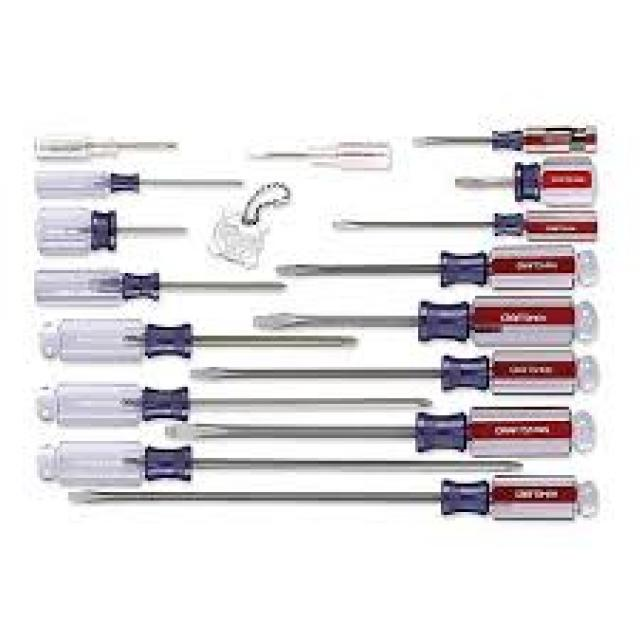Screwdriver: (28, 432, 520, 492), (57, 472, 603, 525), (160, 402, 600, 461), (180, 346, 608, 398), (27, 376, 437, 429), (238, 297, 606, 344), (28, 314, 364, 364), (278, 243, 624, 291), (26, 262, 286, 307), (326, 205, 608, 246), (406, 111, 607, 162), (28, 159, 257, 202), (447, 149, 604, 209), (247, 128, 409, 183), (30, 201, 192, 252), (23, 120, 189, 164)
